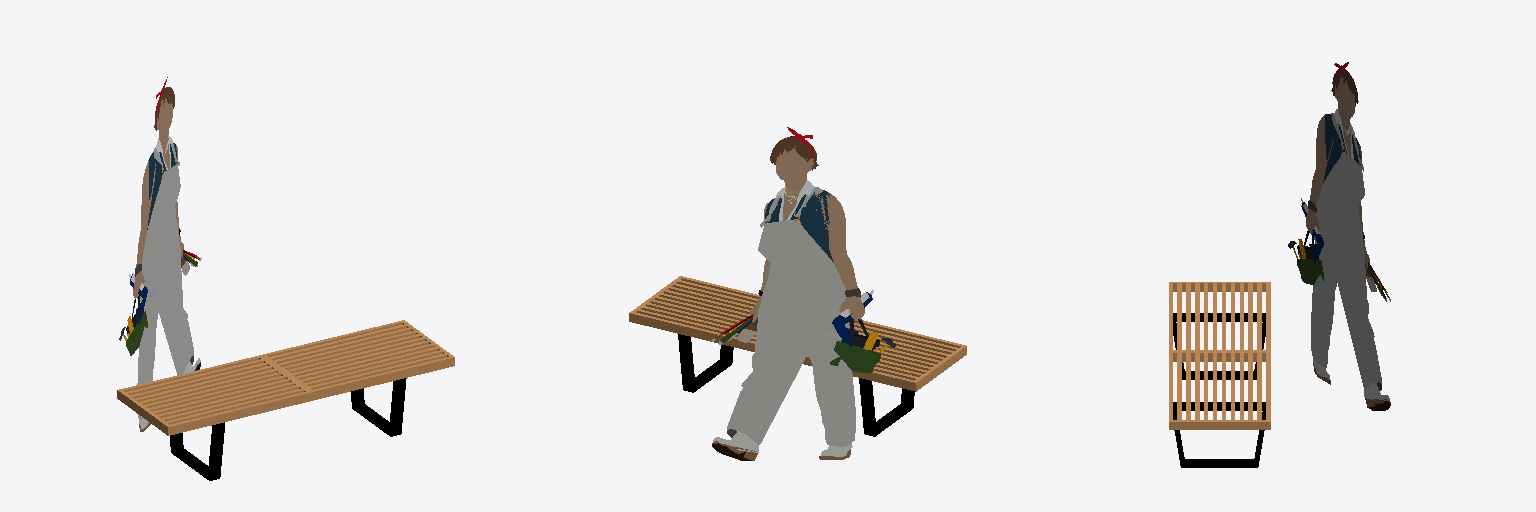
3 renders of one model, left to right at view 1: azimuth 30°, elevation 25°; view 2: azimuth 150°, elevation 25°; view 3: azimuth 270°, elevation 25°, orthographic.
Parts seen in each view (by area): view 1: Mesh8 Group1 Outdoor_Bench_Herman_Miller_Nelson_Platform_Bench1 , Mesh1 Lisanne1 Model, Mesh2 Group1 Outdoor_Bench_Herman_Miller_Nelson_Platform_Bench1 , Mesh3 Group1 Outdoor_Bench_Herman_Miller_Nelson_Platform_Bench1 ; view 2: Mesh1 Lisanne1 Model, Mesh8 Group1 Outdoor_Bench_Herman_Miller_Nelson_Platform_Bench1 , Mesh3 Group1 Outdoor_Bench_Herman_Miller_Nelson_Platform_Bench1 , Mesh2 Group1 Outdoor_Bench_Herman_Miller_Nelson_Platform_Bench1 ; view 3: Mesh1 Lisanne1 Model, Mesh8 Group1 Outdoor_Bench_Herman_Miller_Nelson_Platform_Bench1 , Mesh2 Group1 Outdoor_Bench_Herman_Miller_Nelson_Platform_Bench1 , Mesh3 Group1 Outdoor_Bench_Herman_Miller_Nelson_Platform_Bench1 .
Part boxes in pixels (bbox=[...]): Mesh8 Group1 Outdoor_Bench_Herman_Miller_Nelson_Platform_Bench1 : bbox=[117, 320, 454, 435]; Mesh1 Lisanne1 Model: bbox=[119, 77, 201, 431]; Mesh2 Group1 Outdoor_Bench_Herman_Miller_Nelson_Platform_Bench1 : bbox=[351, 378, 406, 436]; Mesh3 Group1 Outdoor_Bench_Herman_Miller_Nelson_Platform_Bench1 : bbox=[170, 422, 224, 480]; Mesh1 Lisanne1 Model: bbox=[711, 127, 895, 460]; Mesh8 Group1 Outdoor_Bench_Herman_Miller_Nelson_Platform_Bench1 : bbox=[629, 276, 966, 391]; Mesh3 Group1 Outdoor_Bench_Herman_Miller_Nelson_Platform_Bench1 : bbox=[859, 378, 914, 436]; Mesh2 Group1 Outdoor_Bench_Herman_Miller_Nelson_Platform_Bench1 : bbox=[678, 334, 733, 392]; Mesh1 Lisanne1 Model: bbox=[1288, 62, 1390, 410]; Mesh8 Group1 Outdoor_Bench_Herman_Miller_Nelson_Platform_Bench1 : bbox=[1169, 282, 1270, 429]; Mesh2 Group1 Outdoor_Bench_Herman_Miller_Nelson_Platform_Bench1 : bbox=[1173, 402, 1265, 467]; Mesh3 Group1 Outdoor_Bench_Herman_Miller_Nelson_Platform_Bench1 : bbox=[1173, 313, 1265, 379].
Bounding box in the file's own units: 1.52 × 1.7 × 1.02.